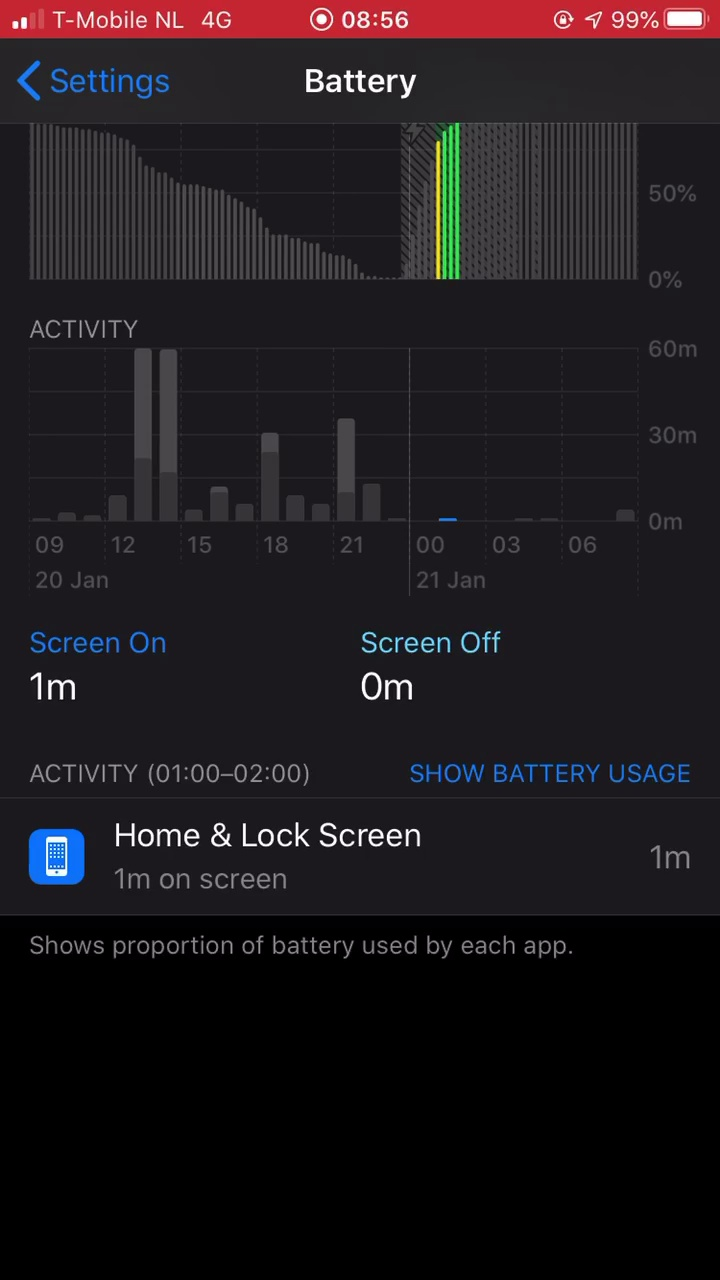activity: (21, 746, 345, 802)
app: (23, 811, 701, 908)
